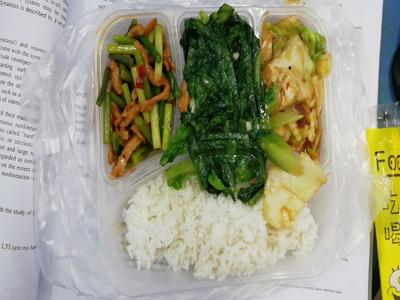rice: (118, 173, 332, 274)
st: (95, 13, 182, 170)
ymc: (177, 8, 270, 205)
